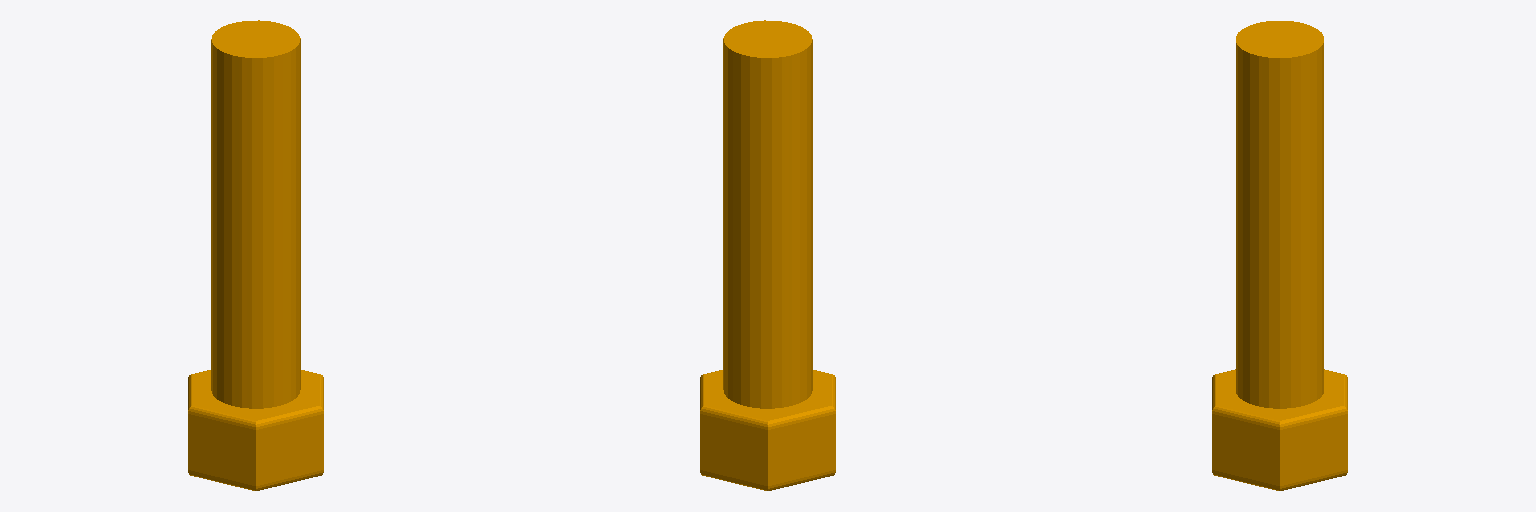
The robot description file, URDF, robot "00581_socket":
<?xml version="1.0"?>
<robot name="00581_socket">
	<link name="00581_socket">
		<visual>
			<geometry>
				<mesh filename="asset_socket.obj" scale="1 1 1.7"/>
			</geometry>
		</visual>

	</link>
</robot>

--- Facts derived from the render (not from the file) ---
The picture shows the robot from 3 angles, left to right: view 1: azimuth 30°, elevation 25°; view 2: azimuth 150°, elevation 25°; view 3: azimuth 270°, elevation 25°; orthographic projection.
Robot: 00581_socket — 1 links, 0 joints (none); root link 00581_socket; default pose: all joints at 0.
Visible links, largest first — view 1: 00581_socket; view 2: 00581_socket; view 3: 00581_socket.
Boxes of the visible links, left/top/right/bottom form: 00581_socket: left=188, top=20, right=323, bottom=490; 00581_socket: left=700, top=20, right=835, bottom=490; 00581_socket: left=1212, top=21, right=1347, bottom=490.
Bounding box of the posed robot: 0.0728 × 0.0631 × 0.2144 m (x, y, z).
1 mesh visuals loaded from 1 distinct referenced files (1 OBJ).